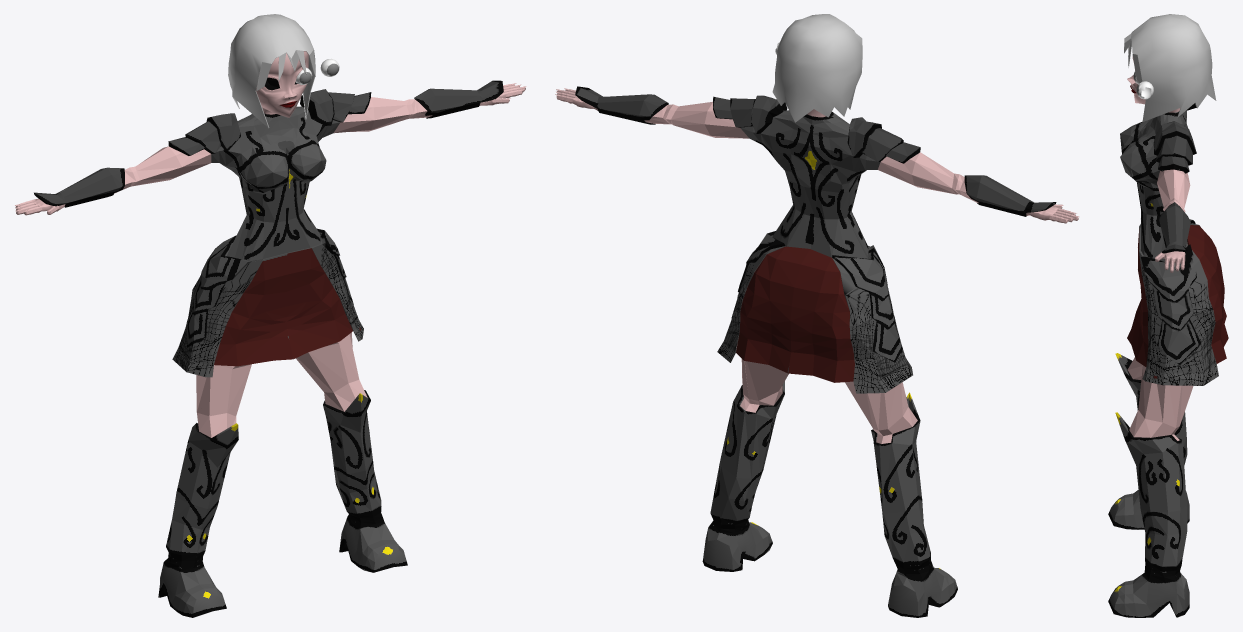
File: MISIMO.fbx
The picture shows the model from 3 angles, left to right: view 1: azimuth 30°, elevation 25°; view 2: azimuth 150°, elevation 25°; view 3: azimuth 270°, elevation 25°; orthographic projection. The views are drawn at different scales.
Parts seen in each view (by area): view 1: tetas, PELO; view 2: tetas, PELO; view 3: tetas, PELO, Object001.
Boxes of the visible parts, x1,y1,x2,y2 form: tetas: (15,51,526,617); PELO: (228,14,315,127); tetas: (555,86,1079,617); PELO: (772,14,862,122); tetas: (1108,56,1228,617); PELO: (1124,14,1216,121); Object001: (1136,81,1153,99).
Size of the model in its own units: 1959 by 2024 by 405.
